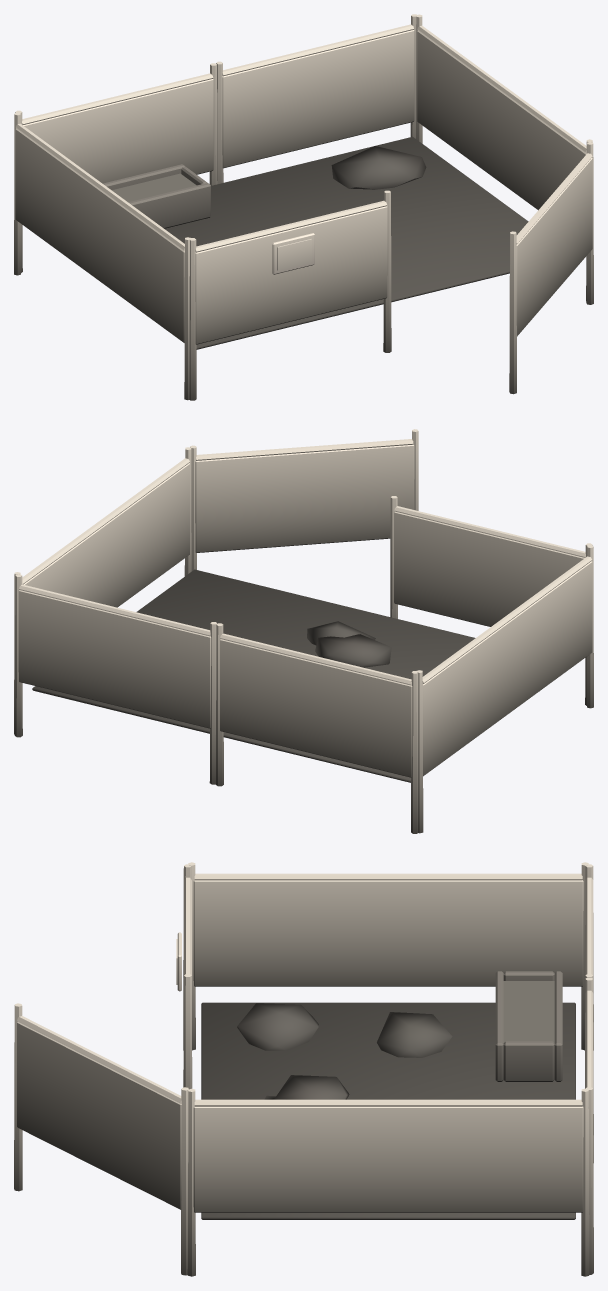
Rendered from SM_VK_Prop_Pen.fbx.
3 views of the same model, one above another, from view 1: azimuth 30°, elevation 25°; view 2: azimuth 150°, elevation 25°; view 3: azimuth 270°, elevation 25° (orthographic). The views are drawn at different scales.
Parts seen in each view (by area): view 1: SM_VK_Prop_Pen.001; view 2: SM_VK_Prop_Pen.001; view 3: SM_VK_Prop_Pen.001.
Boxes of the visible parts, left/top/right/bottom form: SM_VK_Prop_Pen.001: left=14, top=14, right=593, bottom=400; SM_VK_Prop_Pen.001: left=14, top=429, right=593, bottom=833; SM_VK_Prop_Pen.001: left=14, top=862, right=593, bottom=1276.
Size of the model in its own units: 4.07 by 1.52 by 4.33.
